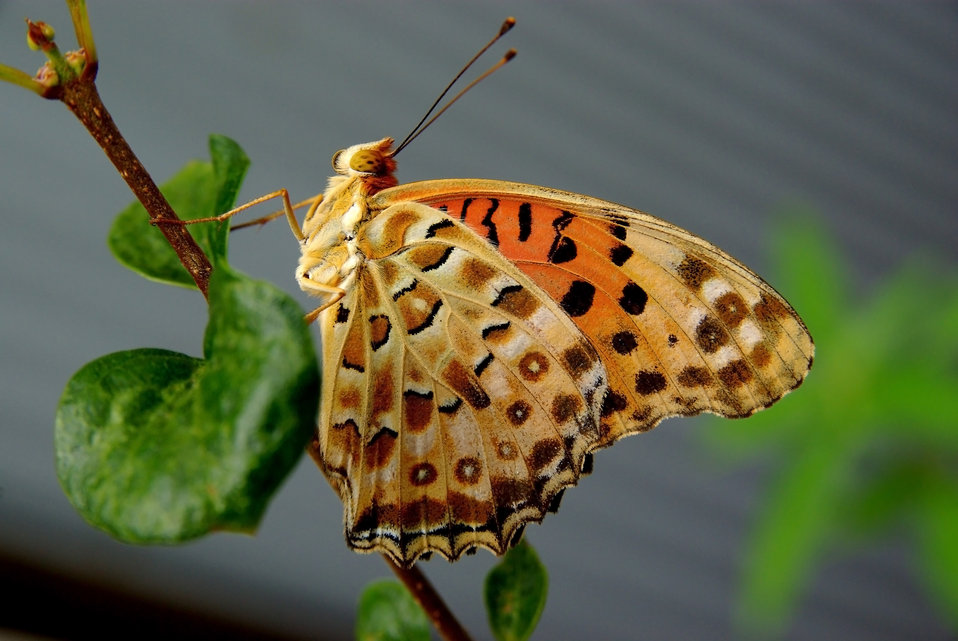Argyreus hyperbius: (150, 14, 824, 558)
butterfly: (152, 16, 826, 560)
